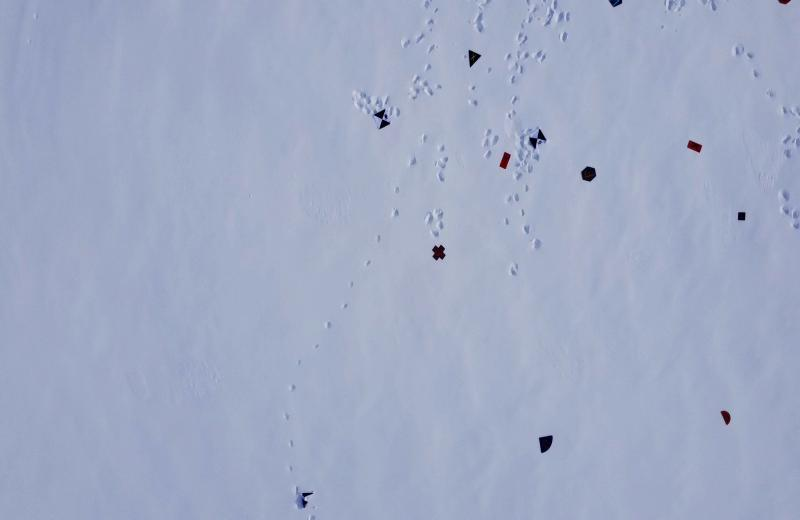Cross: (431, 243, 447, 261)
Hexagon: (581, 165, 598, 182)
Octagon: (776, 0, 792, 6)
Pentagon: (607, 0, 624, 9)
Quarter Circle: (538, 434, 554, 453)
Rectangle: (497, 151, 513, 170), (686, 139, 702, 154)
Semi Circle: (720, 409, 731, 426)
Square: (737, 212, 747, 223)
Triangle: (467, 48, 483, 68)
